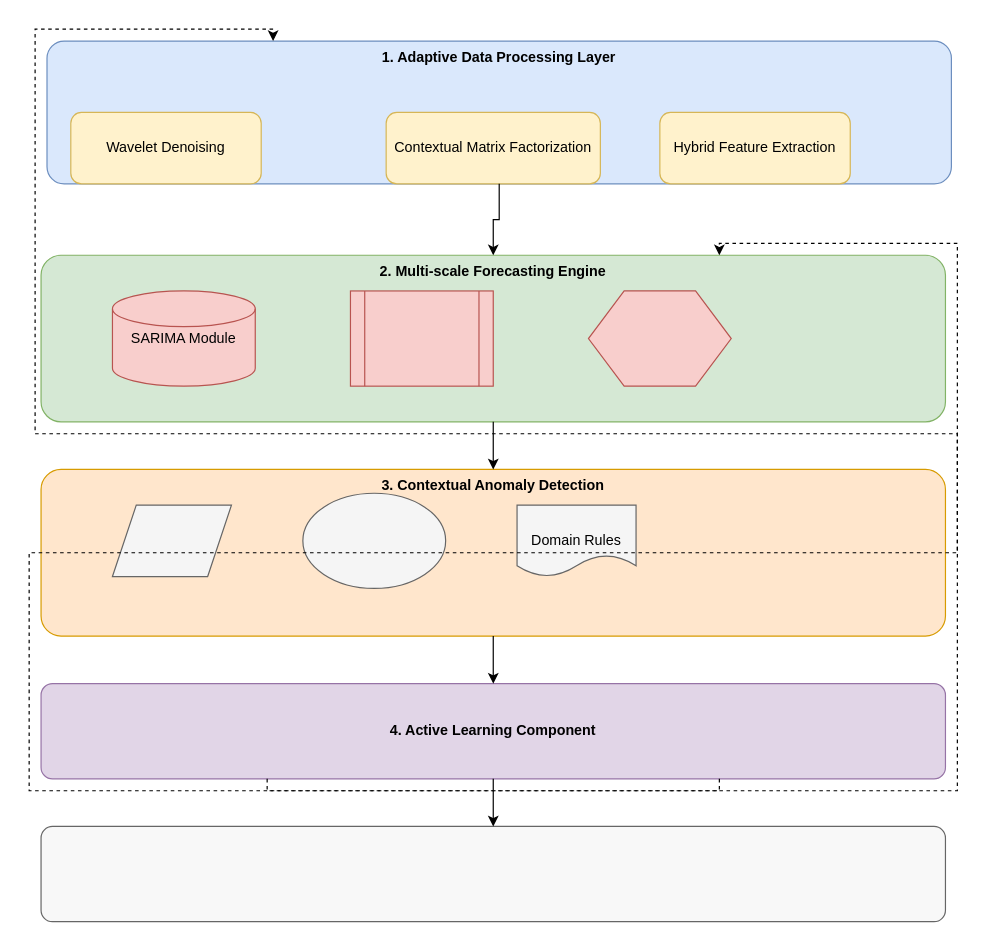
The diagram is 988 pixels wide and 942 high, and some of its shapes have lost their labels. The centre of each missing label's shape, as x and y in pixels:
"5. Explainable Decision Support" goes at point (492, 873).
"Attention-LSTM" goes at point (659, 338).
"Autoencoder" goes at point (374, 540).
"Gradient Boosting" goes at point (421, 338).
"Isolation Forest" goes at point (171, 540).
